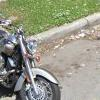Motorcycle: (2, 15, 63, 100)
